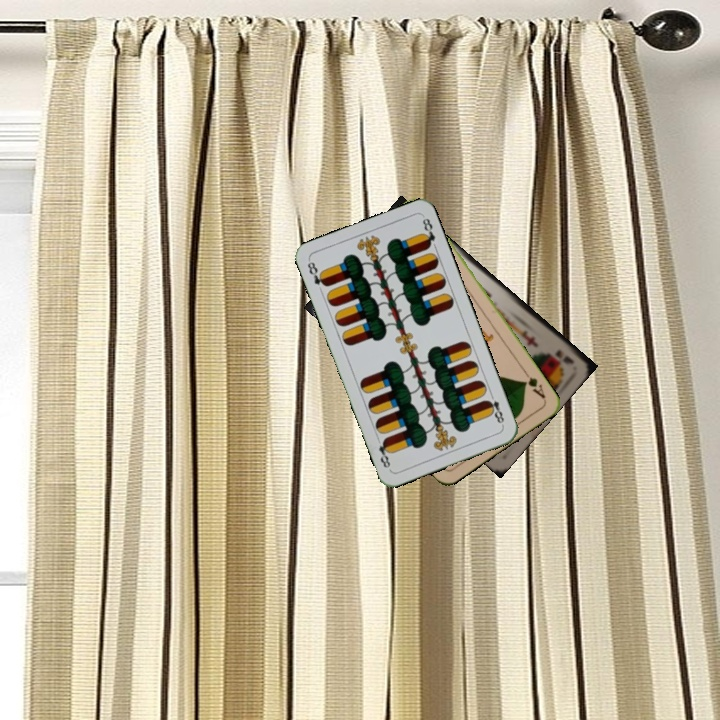E8: (482, 389, 507, 428), (303, 257, 330, 289)
GA: (518, 366, 548, 401)
SK: (551, 346, 576, 367)
